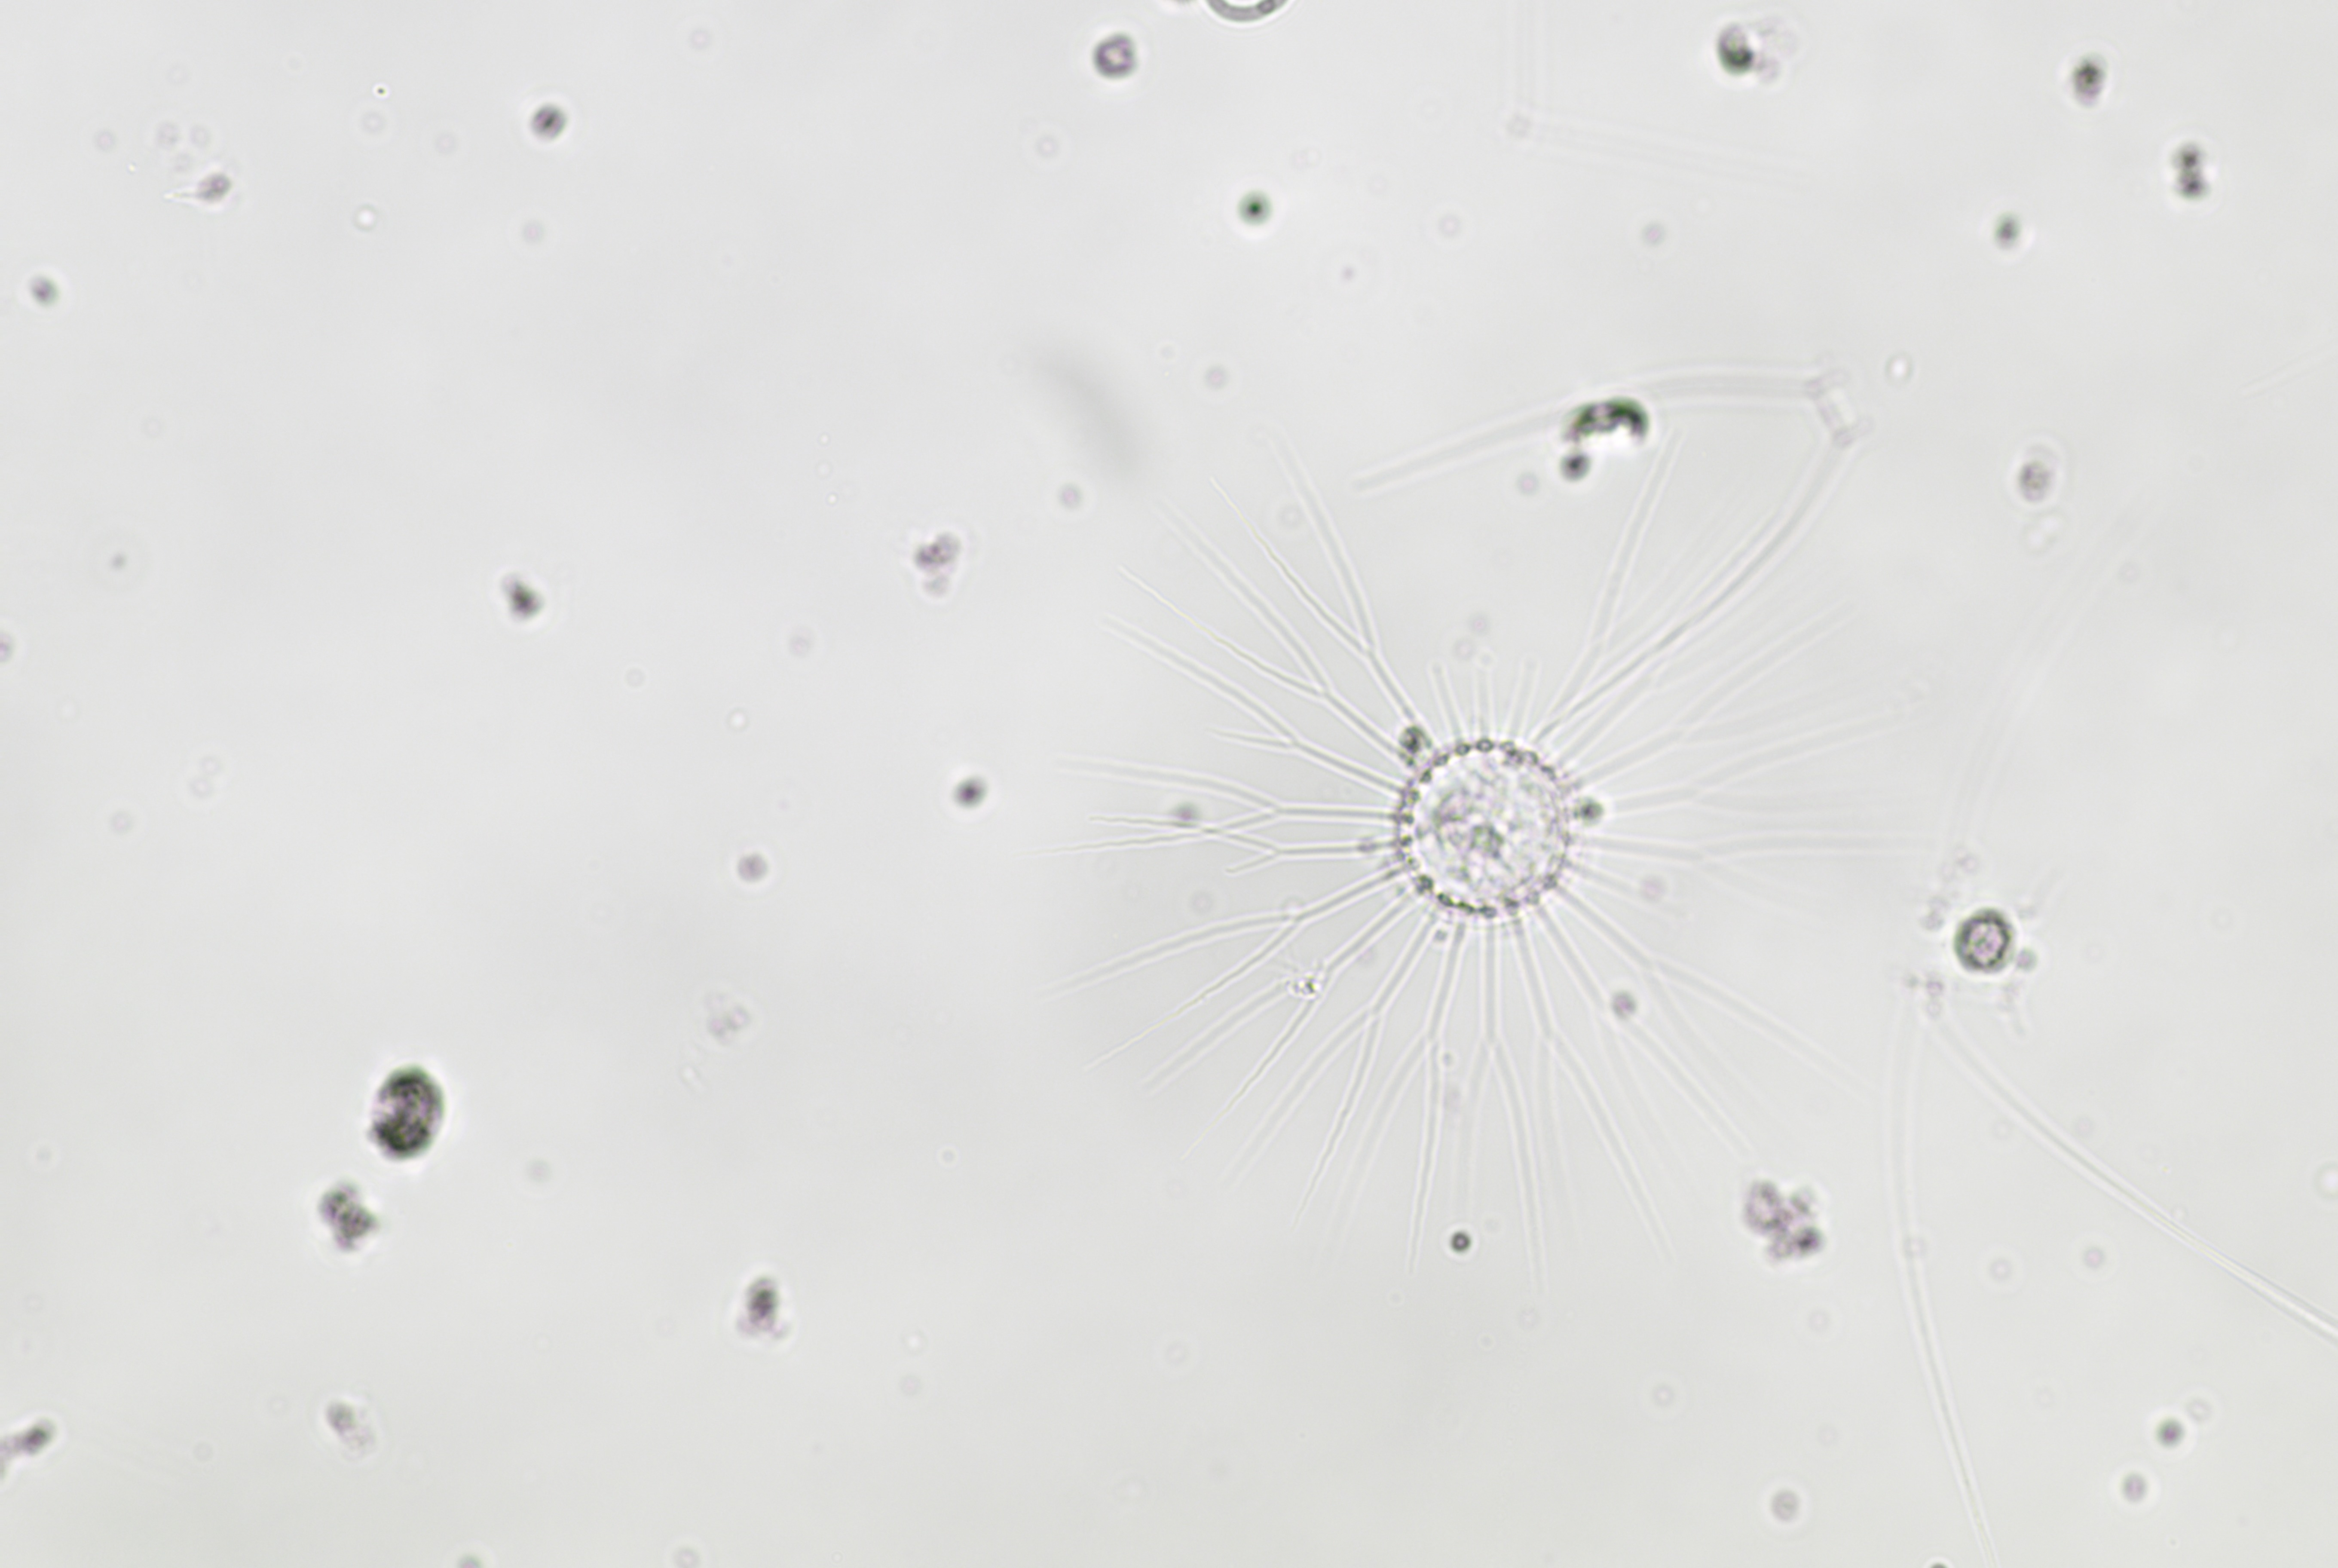bacteriastrum: (1090, 401, 1930, 1290)
